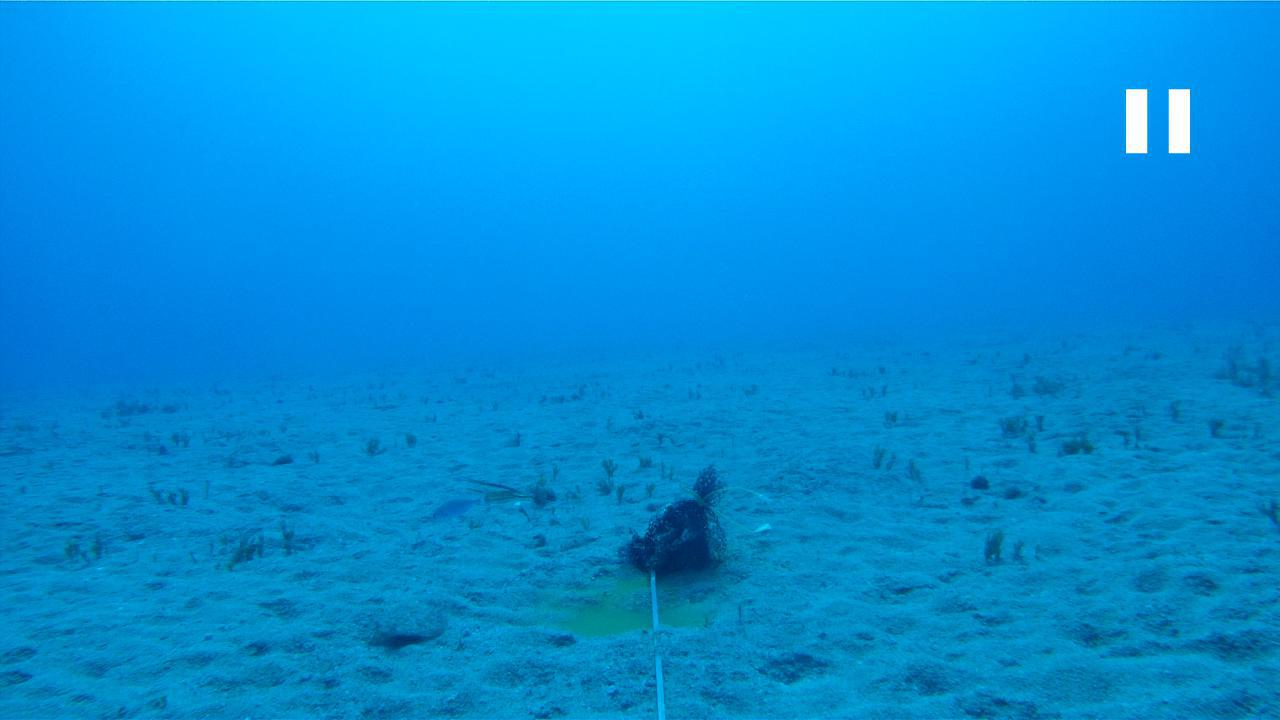bothus: (366, 600, 449, 640)
pagellus: (427, 496, 483, 528)
